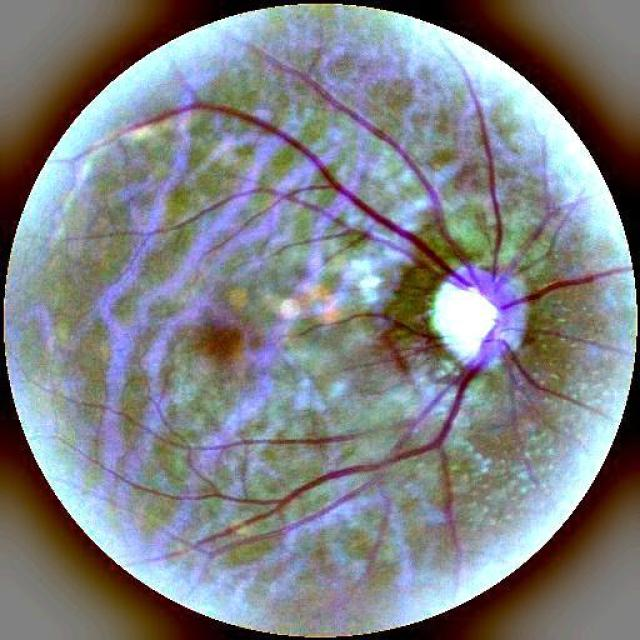Macula: (191, 322, 249, 363)
Nerves: (61, 33, 609, 564)
Optic Disk: (430, 265, 525, 370)
